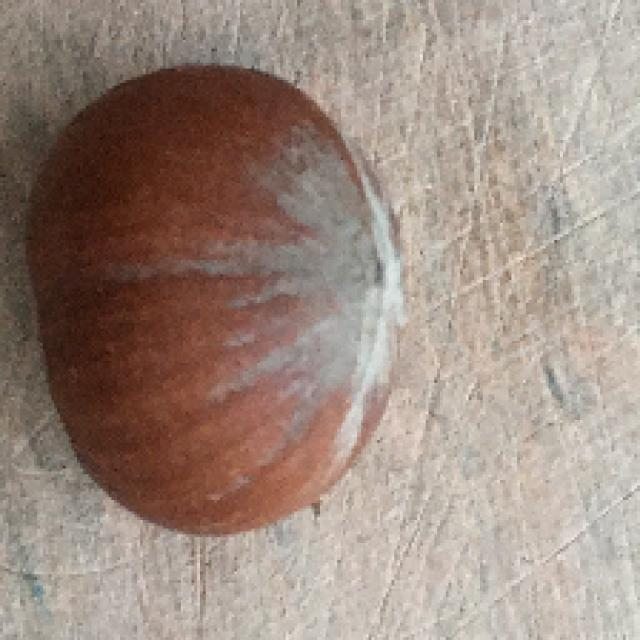damagedHazelnut: (24, 57, 412, 539)
